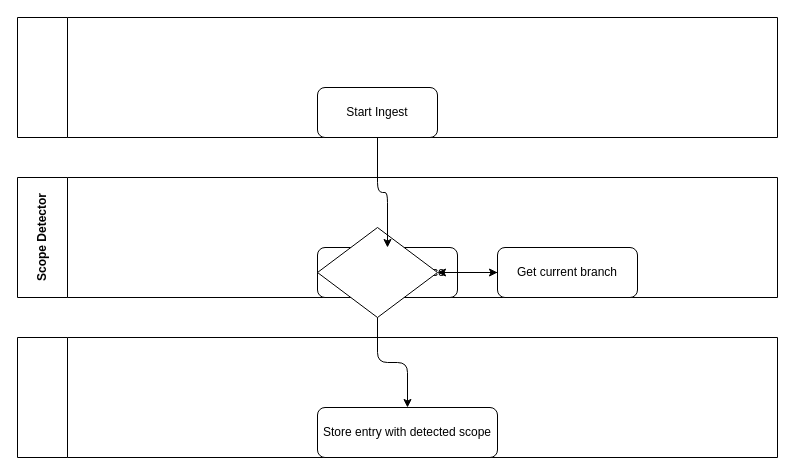
The diagram is 795 pixels wide and 475 high, and some of its shapes have lost their labels. Each missing label, with the box of its shape:
Determine scope WORKSPACE/PROJECT: (316, 226, 438, 318)
Developer: (16, 16, 778, 138)
KB Storage: (16, 336, 778, 458)
